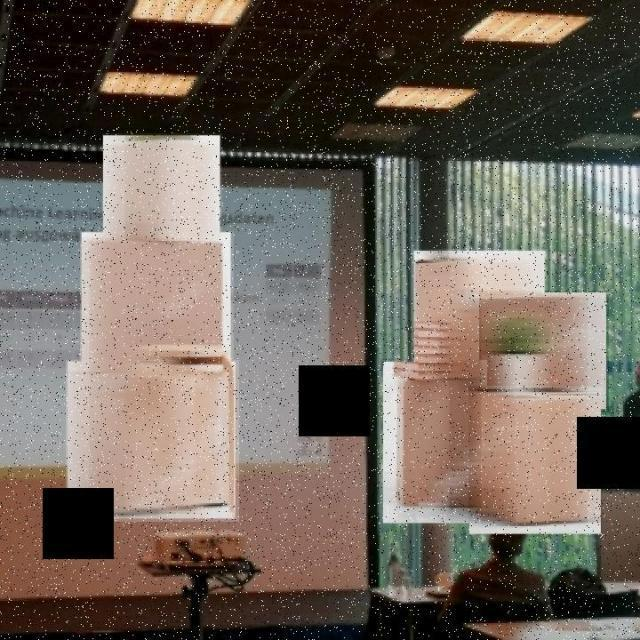box: (66, 360, 240, 522), (80, 231, 234, 373), (468, 386, 602, 537), (412, 248, 548, 389), (382, 360, 487, 526), (479, 290, 609, 412), (102, 134, 222, 252)
